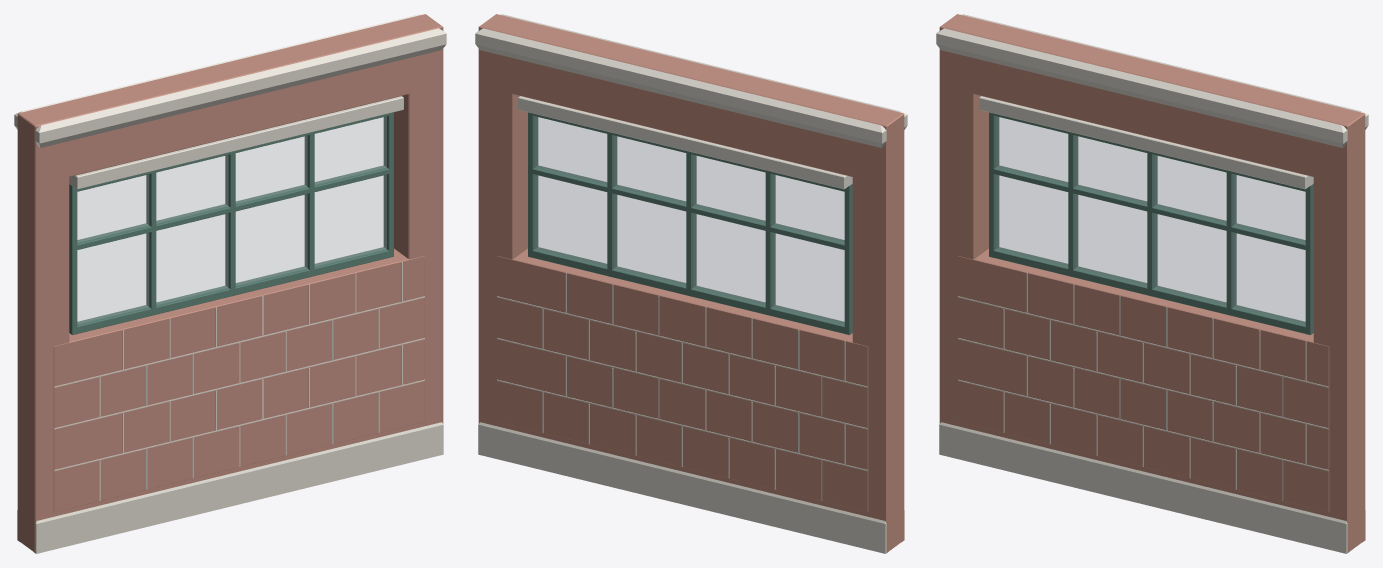
3 views of the same model, side by side, from view 1: azimuth 30°, elevation 25°; view 2: azimuth 150°, elevation 25°; view 3: azimuth 330°, elevation 25° (orthographic).
Visible parts, largest first — view 1: clerestory-wall-module; view 2: clerestory-wall-module; view 3: clerestory-wall-module.
Boxes of the visible parts, x1,y1,x2,y2 form: clerestory-wall-module: (14, 14, 446, 553); clerestory-wall-module: (475, 14, 907, 553); clerestory-wall-module: (936, 14, 1368, 553).
Size of the model in its own units: 4 by 4 by 0.4277.
